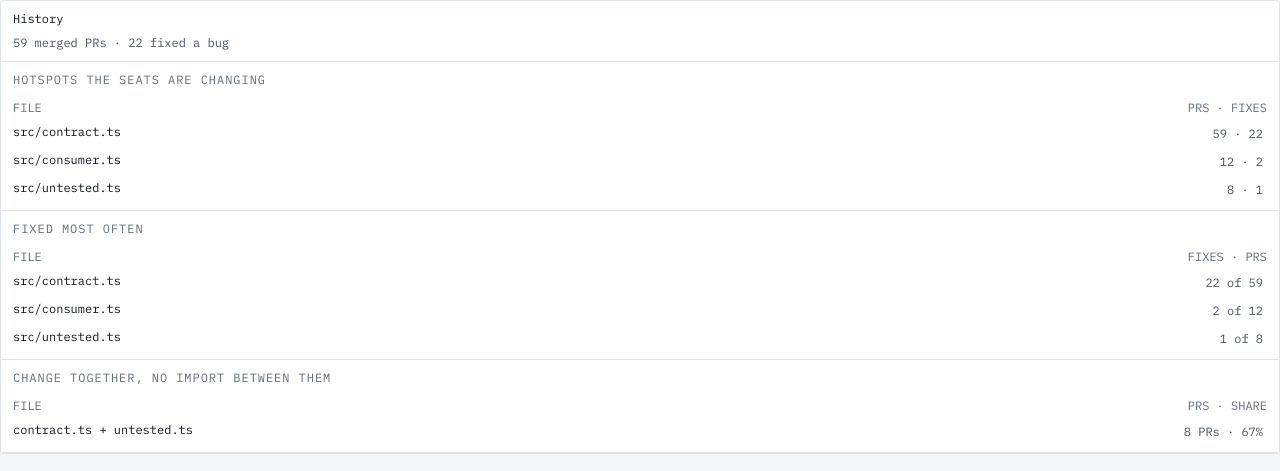
Test: shows History hotspots, frequent fixes, unlinked change partners, and linked recent PRs on focus
Expected: the element named "History lens" shows "Hotspots the seats are changing", [13,72,266,87]
Expected: the element named "History lens" shows "Fixed most often", [13,221,144,236]
Click the button with aria-label "src/contract.ts" at (67, 134), box [13,122,121,146]
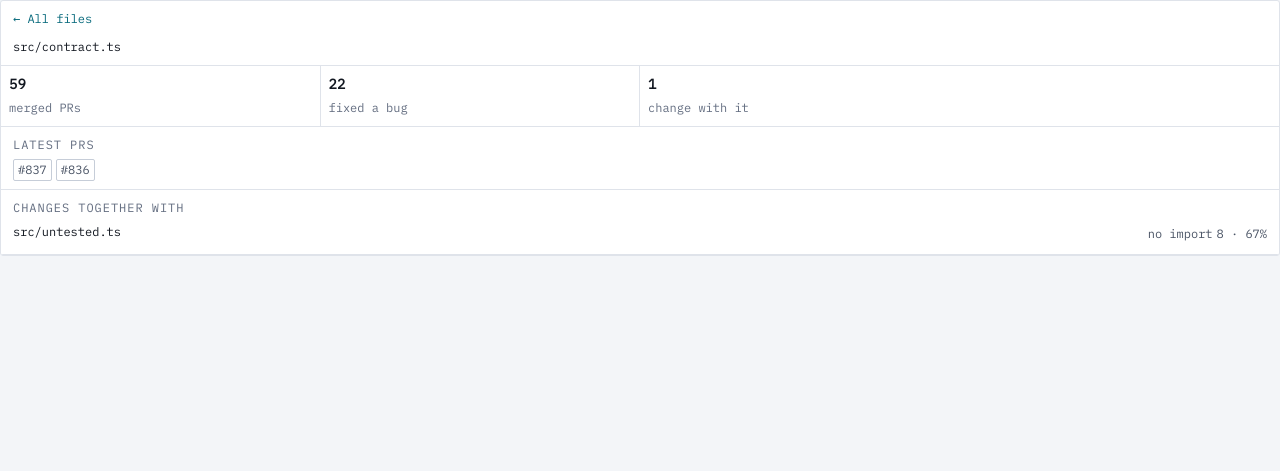
Expected: the element named "History lens" shows "Latest PRs", [13,137,95,152]
Expected: the element named "History lens" shows "Changes together with", [13,200,184,215]
Click the button "← All files" at (53, 21), box [13,9,92,33]
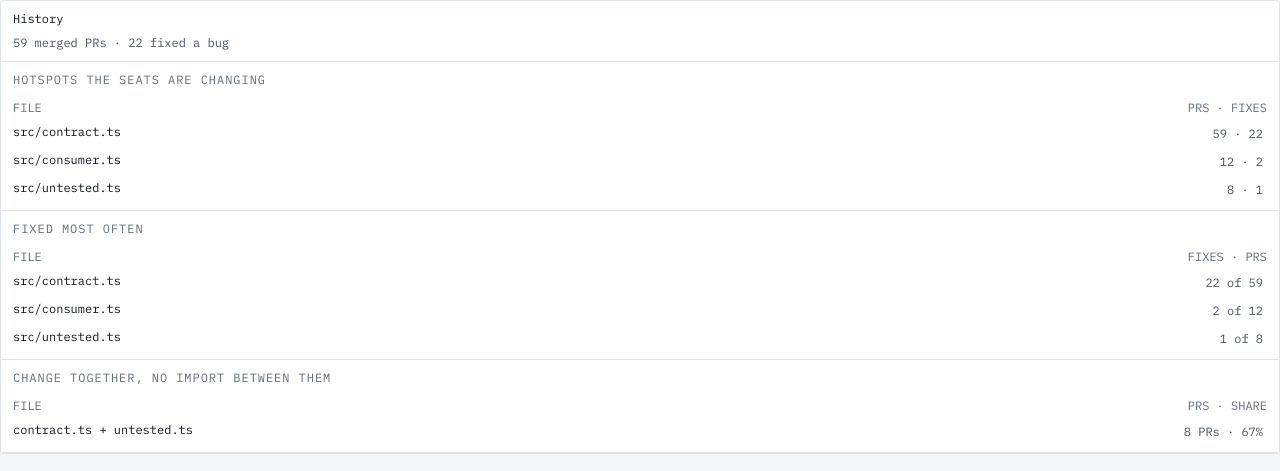
Expected: the element named "History lens" shows "Hotspots", [13,72,266,87]
